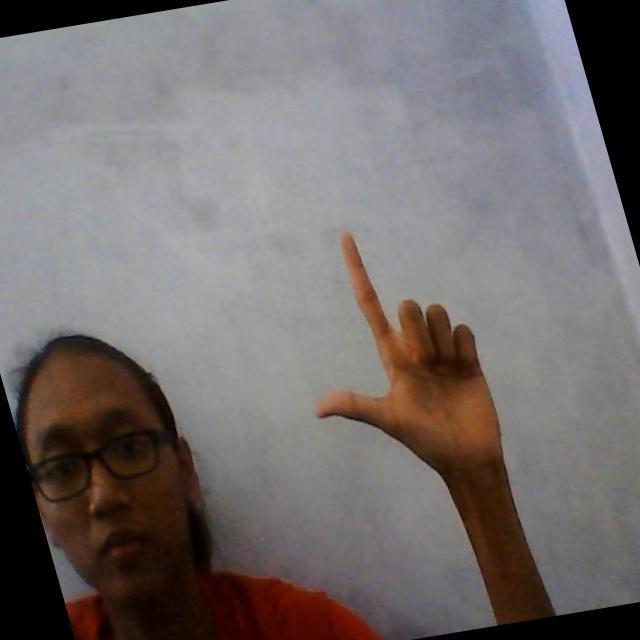L: (282, 220, 500, 468)
